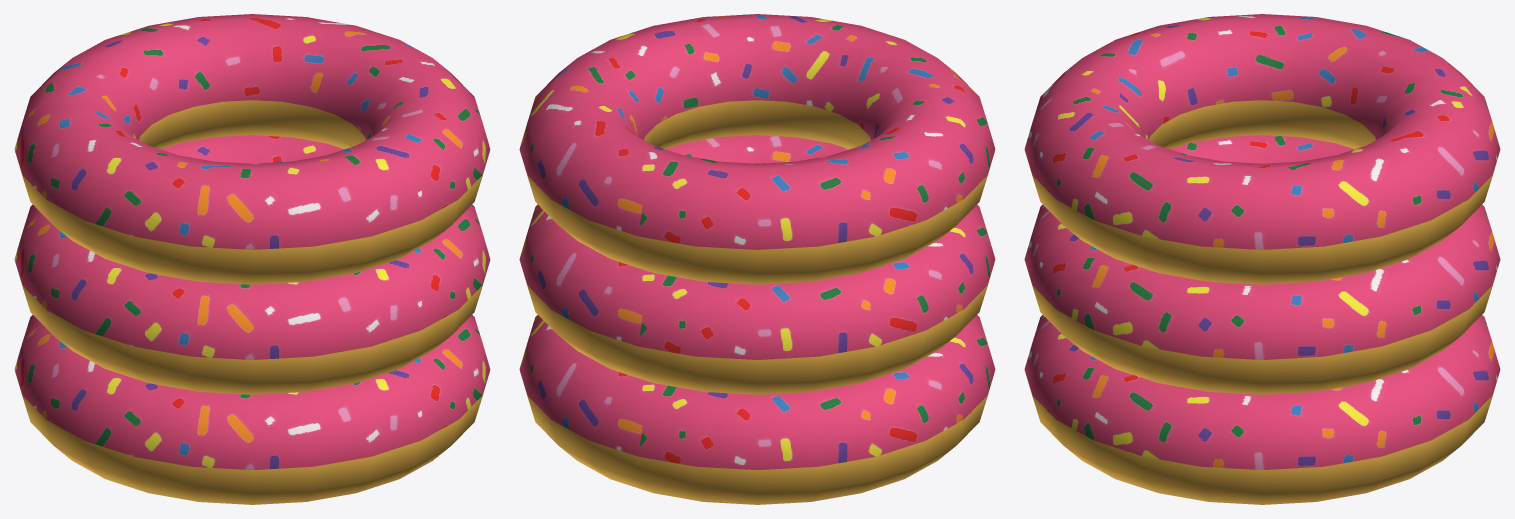
Rendered from buoy donut.fbx.
3 renders of one model, left to right at view 1: azimuth 30°, elevation 25°; view 2: azimuth 150°, elevation 25°; view 3: azimuth 270°, elevation 25°, orthographic.
Visible parts, largest first — view 1: Torus; view 2: Torus; view 3: Torus.
Boxes of the visible parts, x1,y1,x2,y2 form: Torus: (14,14,490,504); Torus: (519,14,995,504); Torus: (1024,14,1500,504).
Bounding box in the file's own units: 3.59 × 2.75 × 3.59.
